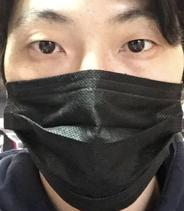with_mask: (1, 1, 184, 211)
